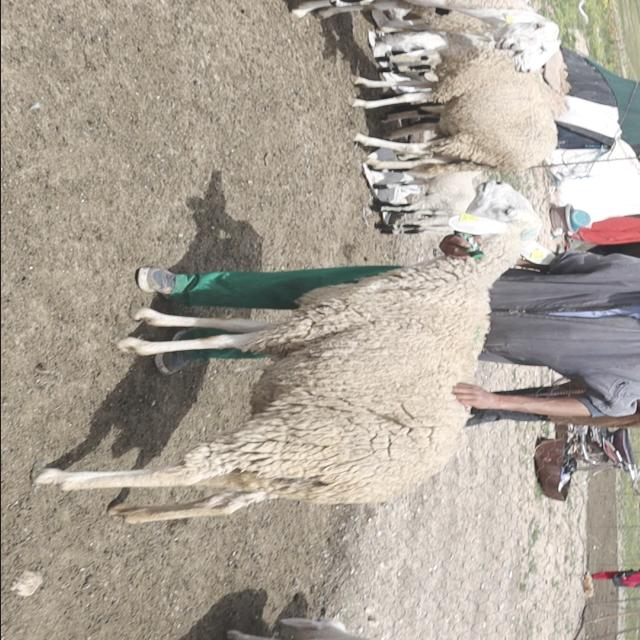Score_2: (33, 180, 549, 523)
